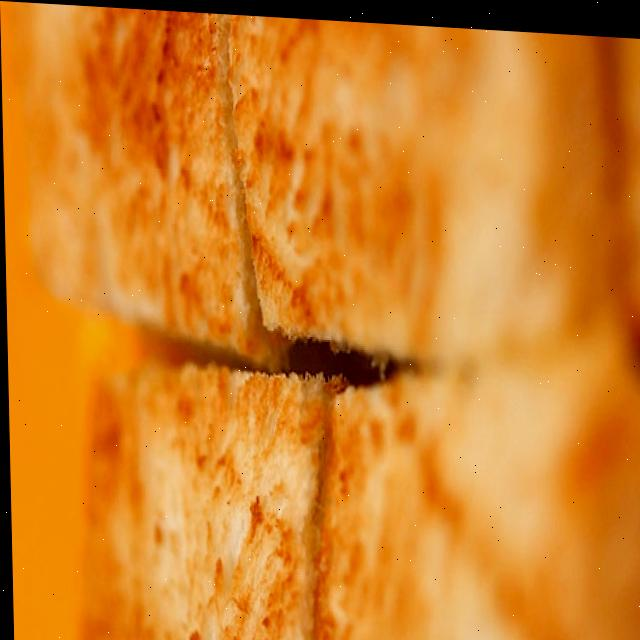面包点心: (33, 40, 610, 640)
